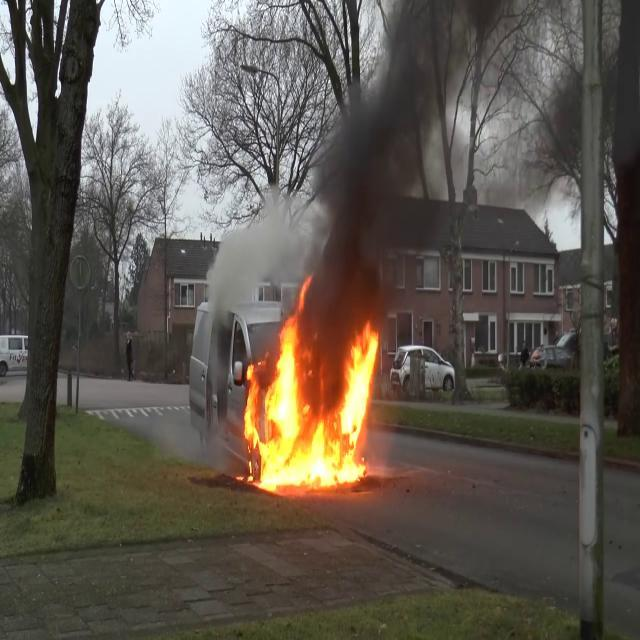Fire: (240, 307, 382, 494)
Smoke: (291, 1, 463, 324), (211, 175, 332, 332)
